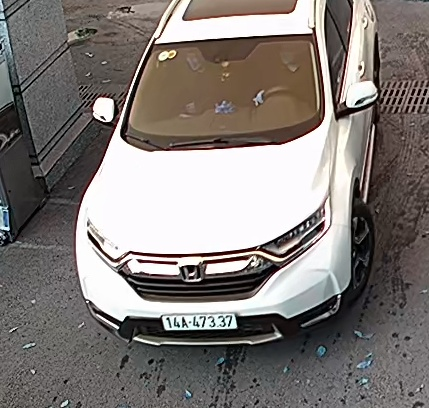vehicle plate: (161, 312, 239, 332)
